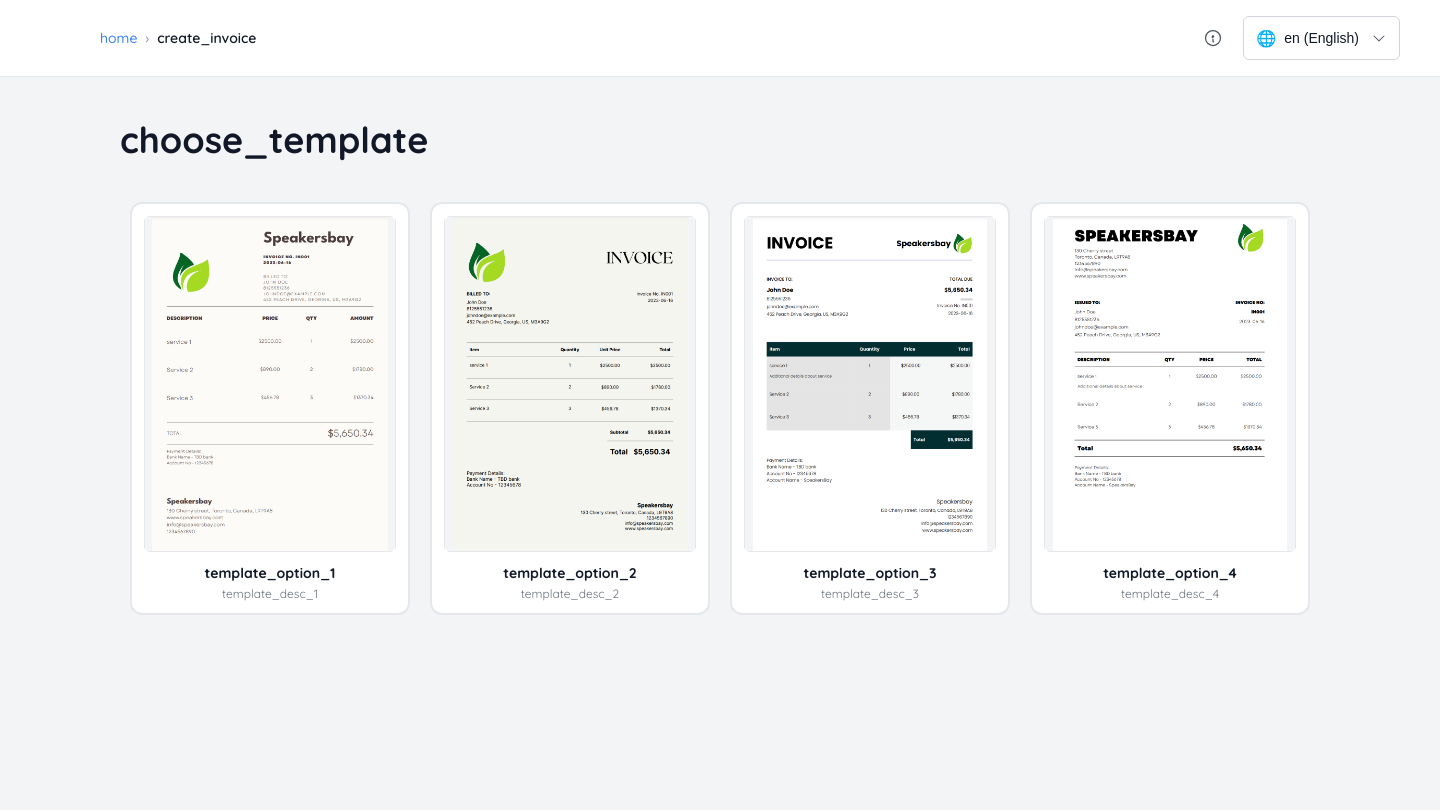
Templates Page › handles template selection
The width and height of the screenshot is (1440, 810).
Click the radio button labelled "template_option_1 template_desc_1".
click(270, 216)  # box [144, 216, 396, 601]
(page scrolled)
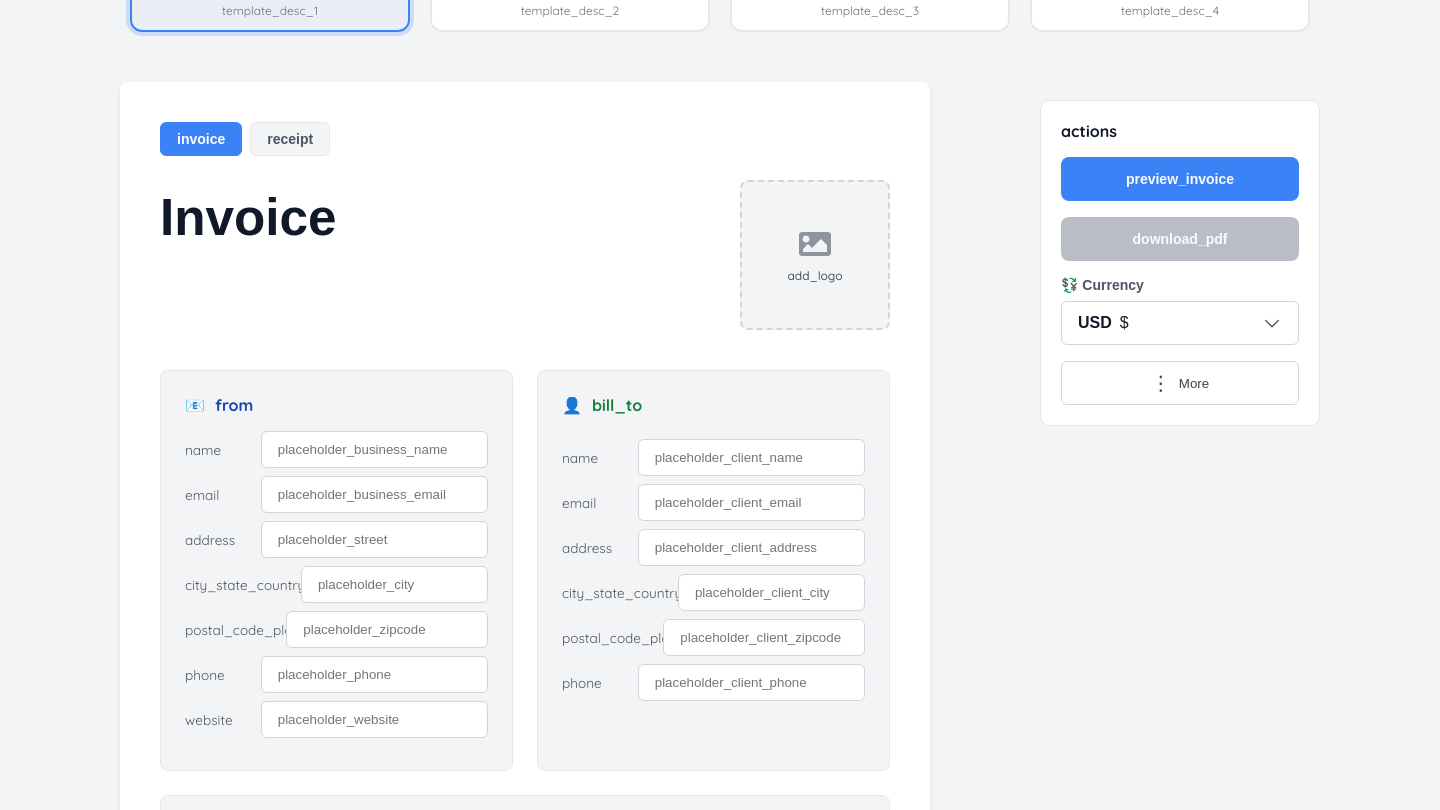
Check: the heading "👤 bill_to" is shown, box [562, 395, 642, 415]
